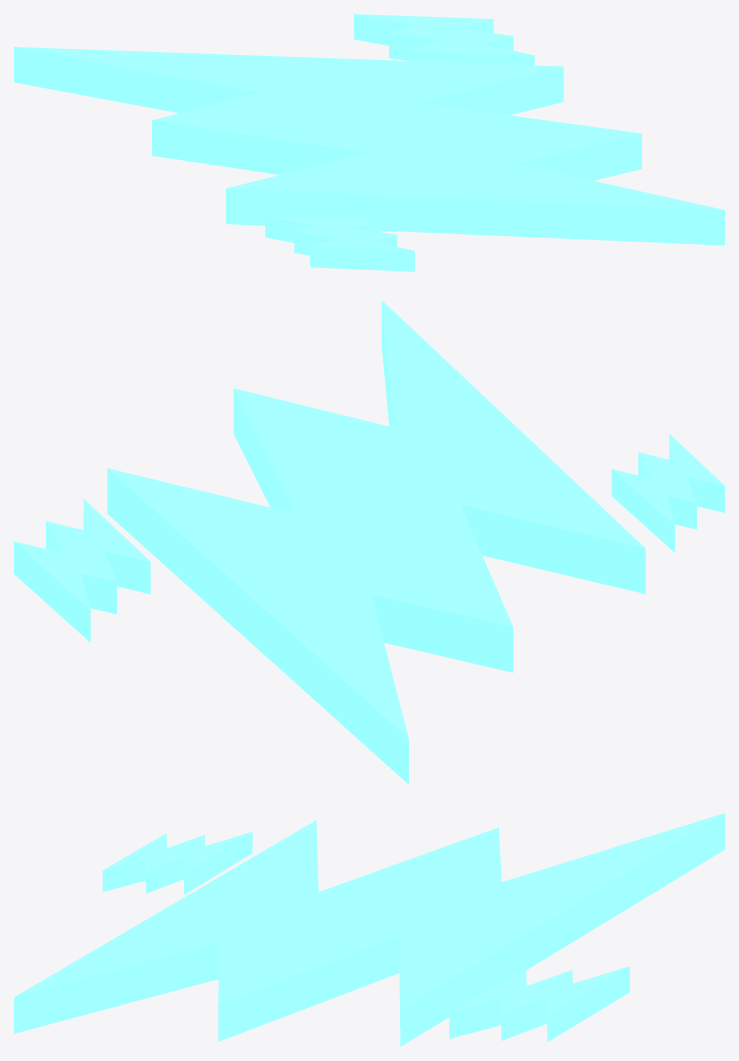
The model's file is Energia.fbx.
3 renders of one model, top to bottom at view 1: azimuth 30°, elevation 25°; view 2: azimuth 150°, elevation 25°; view 3: azimuth 270°, elevation 25°, orthographic. The views are drawn at different scales.
Parts seen in each view (by area): view 1: Energia; view 2: Energia; view 3: Energia.
Part boxes in pixels (x1=…): Energia: x1=14, y1=14, x2=724, y2=271; Energia: x1=14, y1=300, x2=724, y2=784; Energia: x1=14, y1=813, x2=724, y2=1046.
Bounding box in the file's own units: 109 × 6.22 × 72.09.
